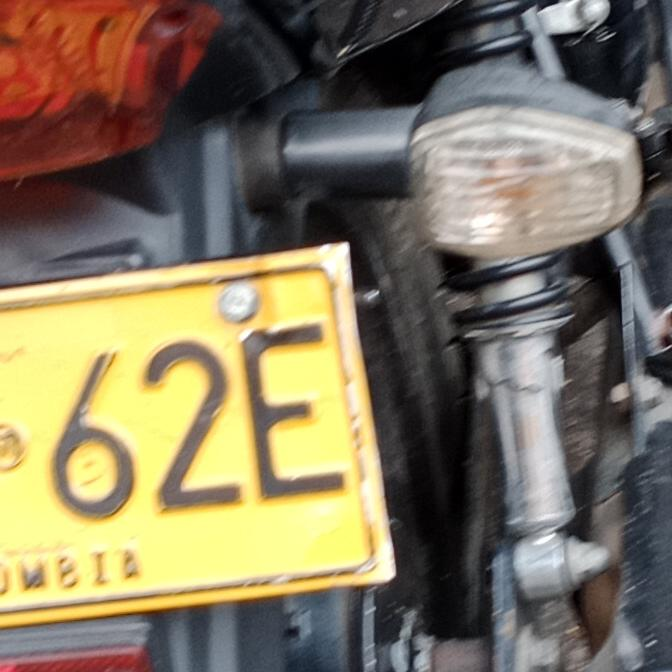plates: (0, 245, 408, 634)
